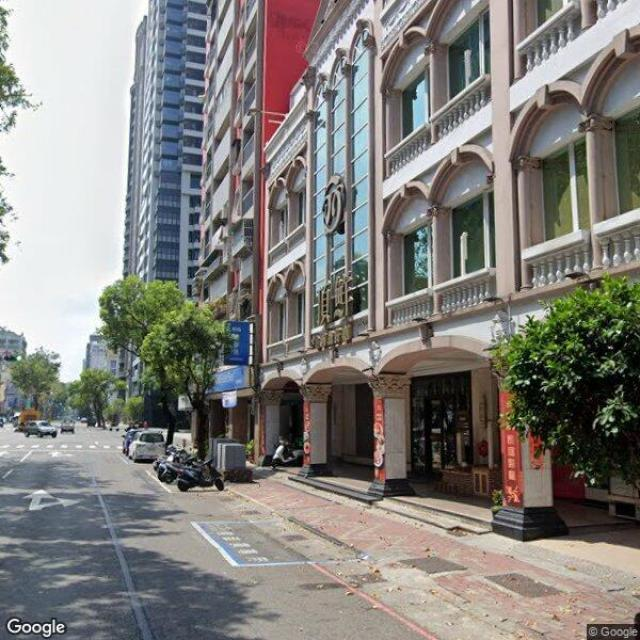Legalparking: (127, 431, 223, 490)
